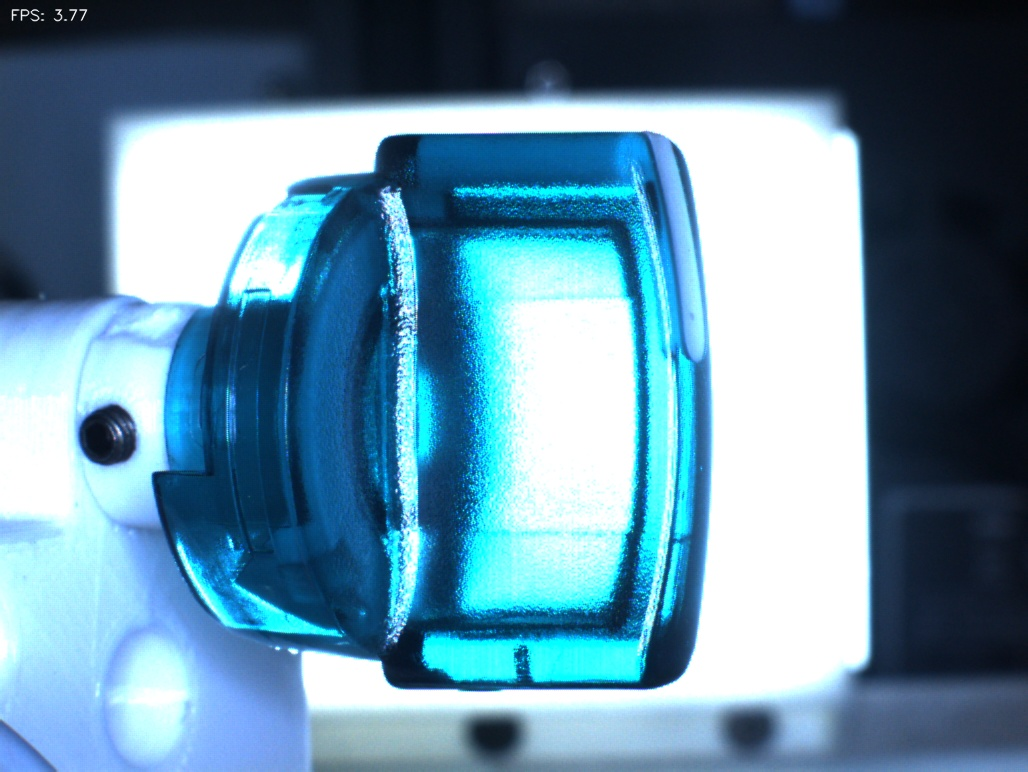Bulle: (494, 633, 573, 714)
